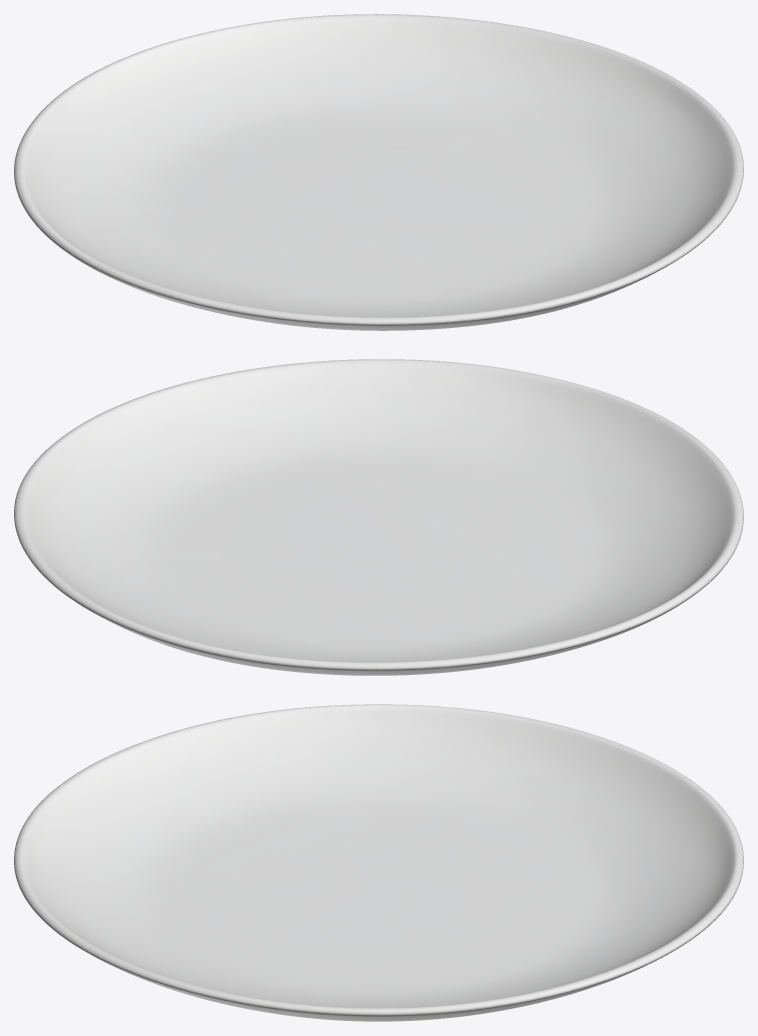
The model's file is plate.glb.
The picture shows the model from 3 angles, top to bottom: view 1: azimuth 30°, elevation 25°; view 2: azimuth 150°, elevation 25°; view 3: azimuth 270°, elevation 25°; orthographic projection.
Bounding box in the file's own units: 1.9 × 0.1954 × 1.9.
1 material, 1 textured.
